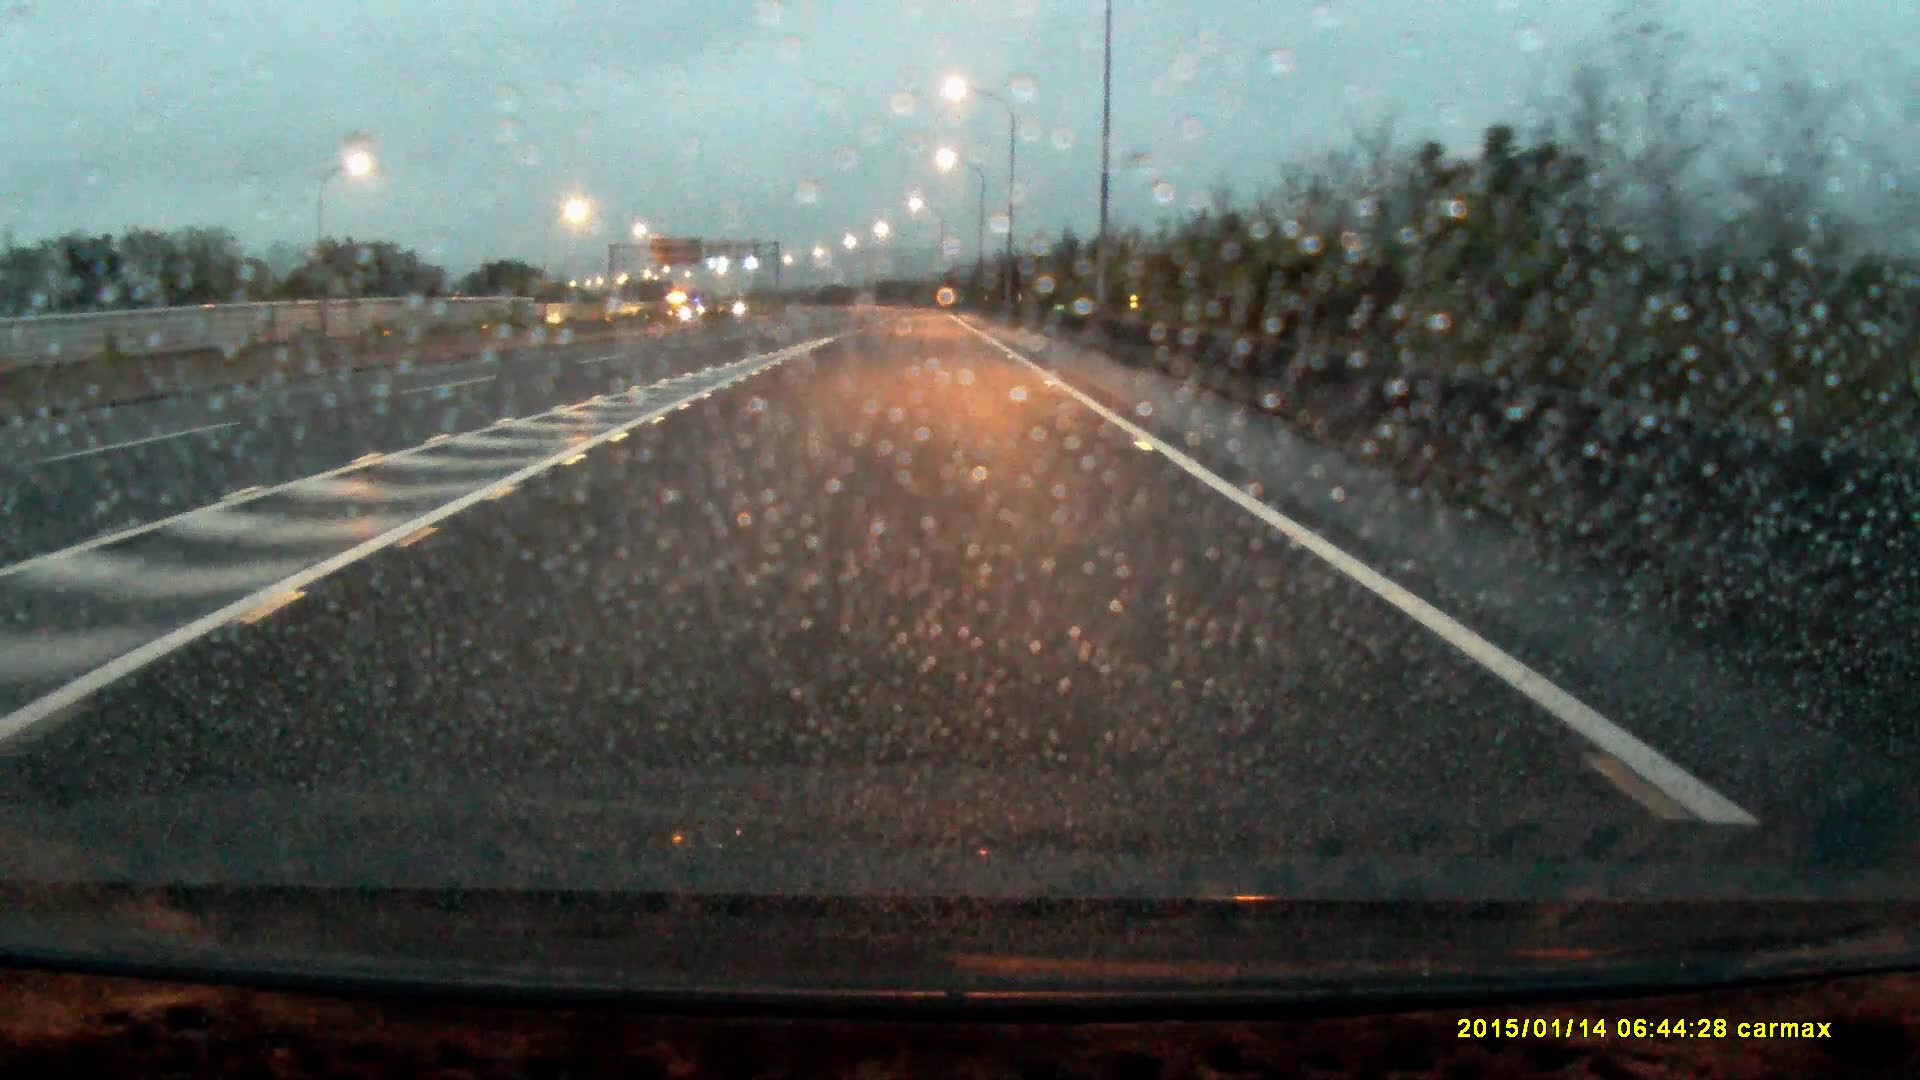vehicle: (666, 298, 698, 326)
